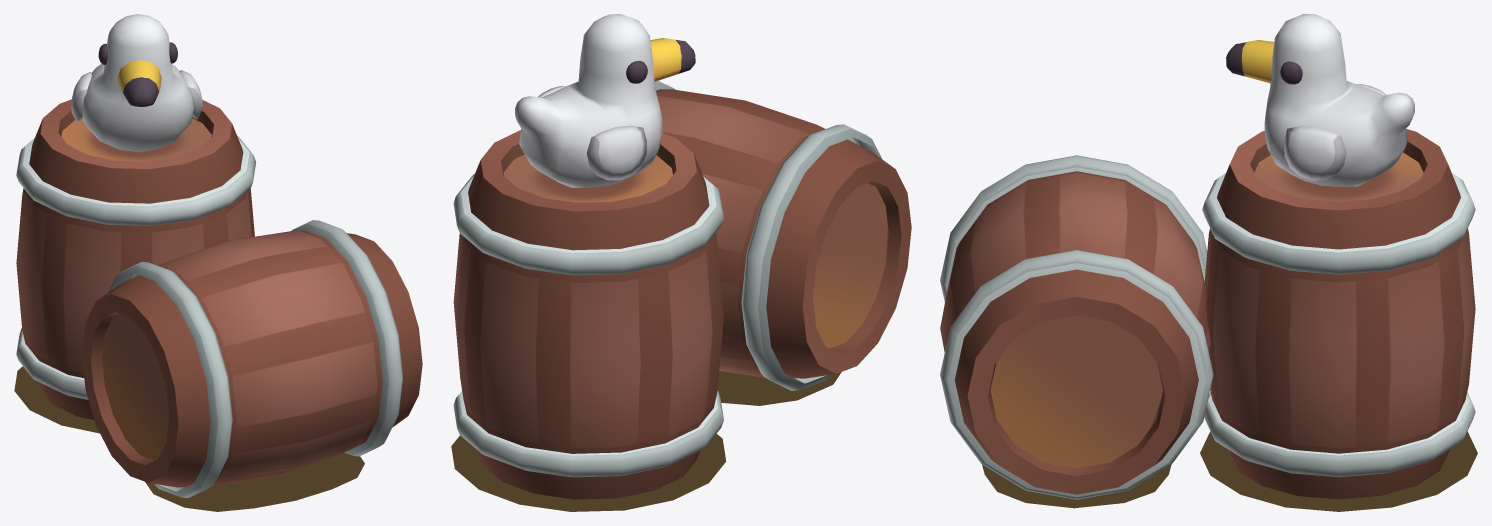
Rendered from Mu_Barrel.fbx.
3 views of the same model, side by side, from view 1: azimuth 30°, elevation 25°; view 2: azimuth 150°, elevation 25°; view 3: azimuth 270°, elevation 25° (orthographic). The views are drawn at different scales.
Parts seen in each view (by area): view 1: Mu_Barrel_c, Mu_Barrel_a, Mu_Barrel_b, Mu_Barrel_shadow; view 2: Mu_Barrel_a, Mu_Barrel_c, Mu_Barrel_b, Mu_Barrel_shadow; view 3: Mu_Barrel_a, Mu_Barrel_c, Mu_Barrel_b, Mu_Barrel_shadow.
Boxes of the visible parts, x1,y1,x2,y2 form: Mu_Barrel_c: (81, 220, 422, 498); Mu_Barrel_a: (16, 99, 256, 419); Mu_Barrel_b: (71, 14, 202, 152); Mu_Barrel_shadow: (14, 366, 364, 511); Mu_Barrel_a: (453, 130, 723, 499); Mu_Barrel_c: (654, 80, 911, 390); Mu_Barrel_b: (515, 14, 695, 187); Mu_Barrel_shadow: (451, 371, 841, 511); Mu_Barrel_a: (1202, 129, 1475, 499); Mu_Barrel_c: (940, 155, 1213, 499); Mu_Barrel_b: (1226, 14, 1414, 186); Mu_Barrel_shadow: (982, 431, 1477, 511).
Bounding box in the file's own units: 113 × 168 × 191.
2 materials, 1 textured.
